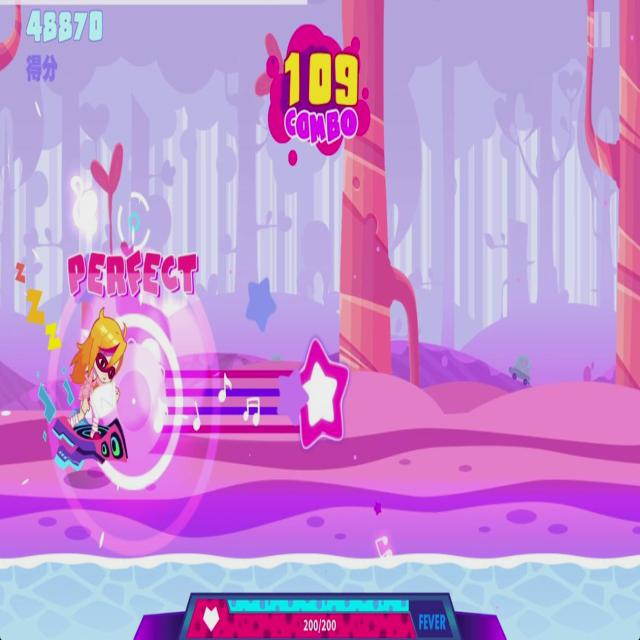hold: (120, 336, 350, 456)
